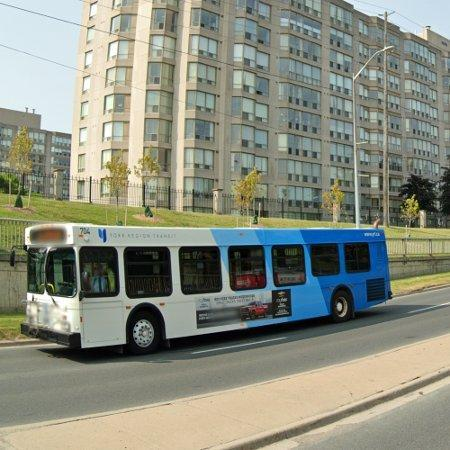buses: (21, 224, 391, 354)
